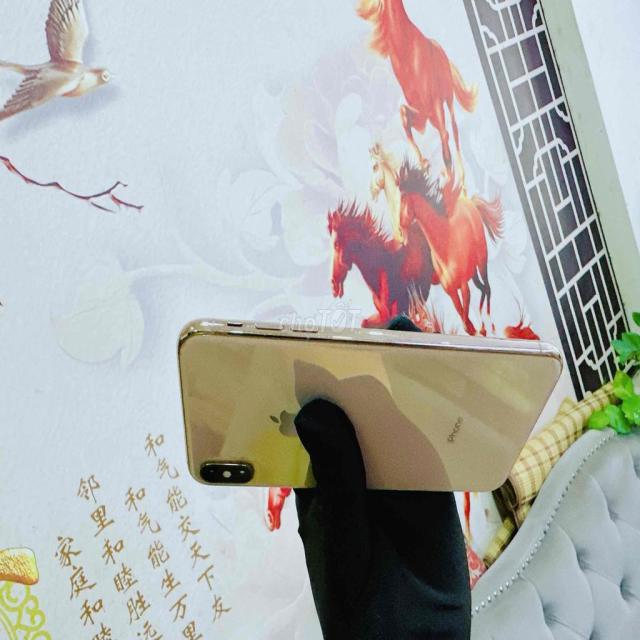gen_x_xs: (174, 315, 565, 508)
